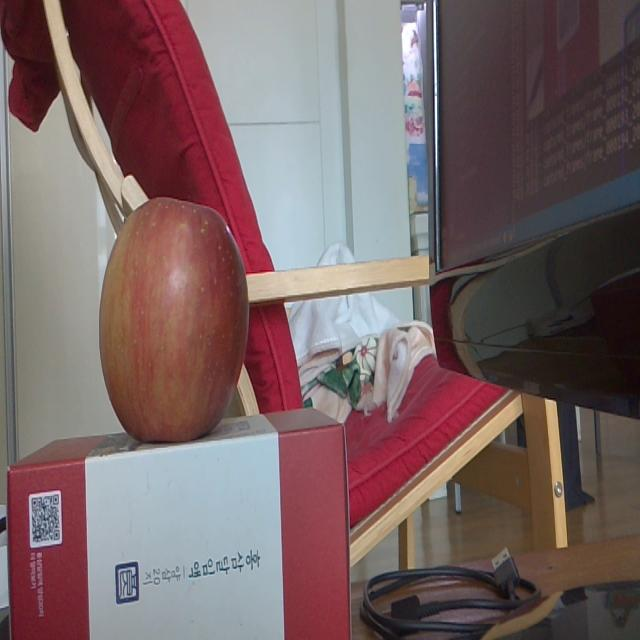apple: (98, 194, 250, 445)
